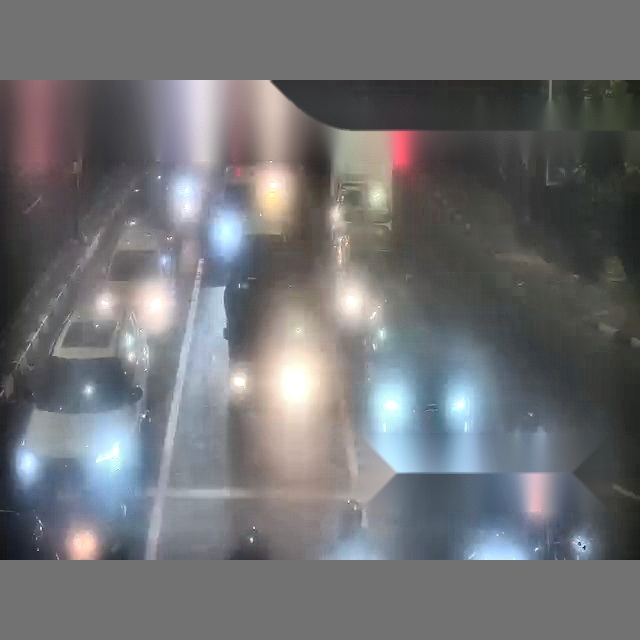Mobil: (13, 288, 149, 557)
